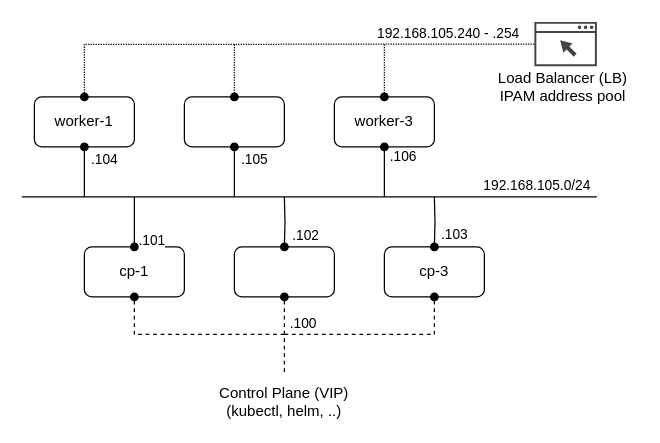
Some shapes in this 660 by 443 pixel diagram are drawn without their labels. The centre of each missing label's shape, as x and y in pixels:
"cp-2" goes at point (283, 271).
"worker-2" goes at point (233, 121).
